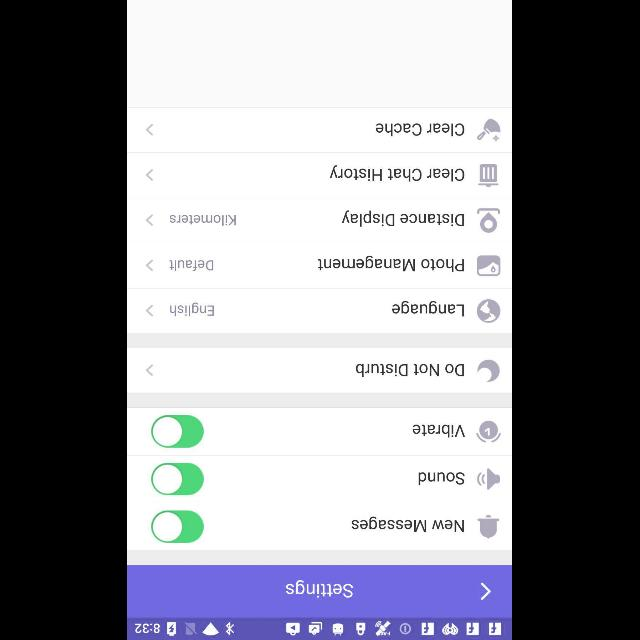icon: (476, 420, 502, 442), (478, 208, 500, 232), (478, 514, 500, 538), (482, 582, 492, 600), (146, 124, 154, 136), (146, 169, 154, 181), (146, 214, 154, 226), (146, 259, 154, 271), (146, 304, 154, 316), (146, 364, 154, 376)
image: (477, 118, 501, 142), (477, 299, 501, 323), (478, 358, 500, 382), (478, 468, 500, 490), (477, 256, 501, 276), (478, 164, 499, 186)
switch: (152, 414, 204, 448), (152, 462, 204, 496), (152, 510, 204, 542)
text: (318, 255, 466, 272), (330, 164, 466, 182), (342, 210, 464, 228), (352, 516, 464, 532), (356, 363, 466, 377), (376, 123, 466, 137), (286, 580, 354, 598), (392, 301, 464, 317), (171, 214, 237, 226), (414, 424, 466, 438), (419, 472, 465, 486), (171, 302, 215, 316), (170, 260, 214, 272)
toolbar: (128, 565, 512, 617)
uppertaskbar: (128, 617, 512, 639)
